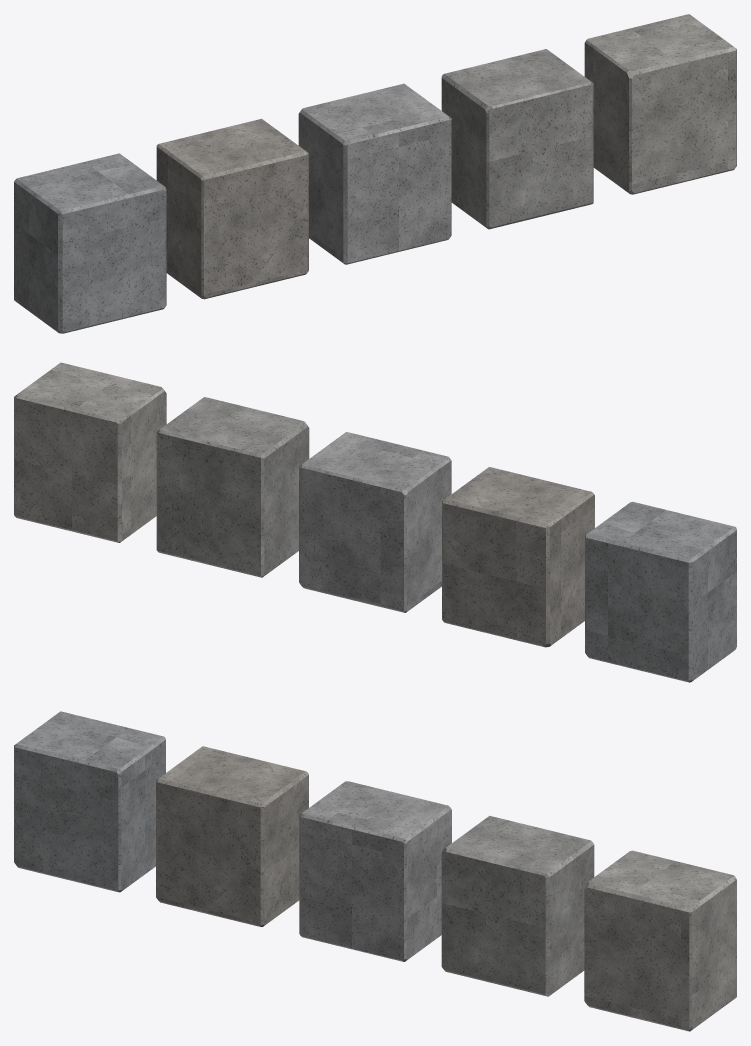
Rendered from kit-comparison.glb.
The picture shows the model from 3 angles, top to bottom: view 1: azimuth 30°, elevation 25°; view 2: azimuth 150°, elevation 25°; view 3: azimuth 330°, elevation 25°; orthographic projection.
Parts seen in each view (by area): view 1: limestone-block-01, limestone-block-05, limestone-block-03, limestone-block-02, limestone-block-04; view 2: limestone-block-01, limestone-block-03, limestone-block-02, limestone-block-04, limestone-block-05; view 3: limestone-block-05, limestone-block-02, limestone-block-04, limestone-block-03, limestone-block-01.
Part boxes in pixels (x1,y1,x2,y2): limestone-block-01: [14, 153, 166, 333]; limestone-block-05: [584, 14, 736, 194]; limestone-block-03: [298, 83, 451, 264]; limestone-block-02: [156, 118, 308, 299]; limestone-block-04: [441, 49, 593, 229]; limestone-block-01: [585, 501, 736, 682]; limestone-block-03: [299, 432, 451, 612]; limestone-block-02: [442, 467, 594, 647]; limestone-block-04: [156, 397, 309, 577]; limestone-block-05: [14, 362, 166, 542]; limestone-block-05: [584, 850, 736, 1031]; limestone-block-02: [156, 746, 308, 926]; limestone-block-04: [441, 815, 594, 996]; limestone-block-03: [299, 781, 451, 961]; limestone-block-01: [14, 711, 165, 892].
Bounding box in the file's own units: 1.76 × 0.3058 × 0.2123.
5 materials, 5 textured.
